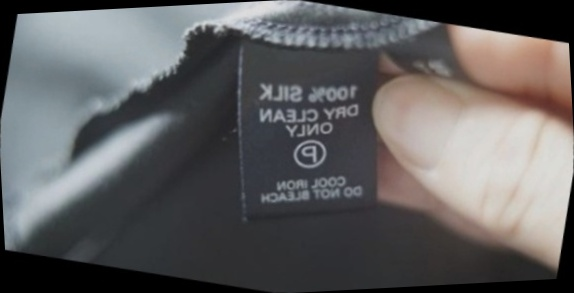dry_clean_any_solvent_except_trichloroethylene: (285, 131, 333, 176)
